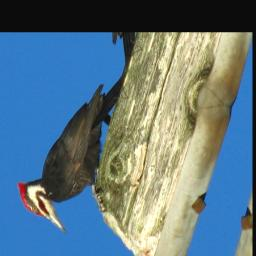Woodpecker: (4, 48, 141, 243)
